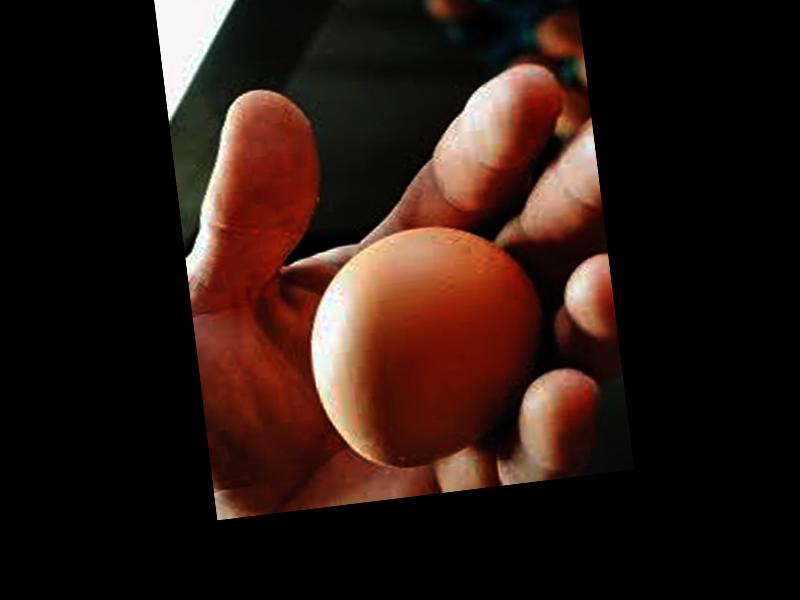Eggs: (298, 212, 563, 481)
